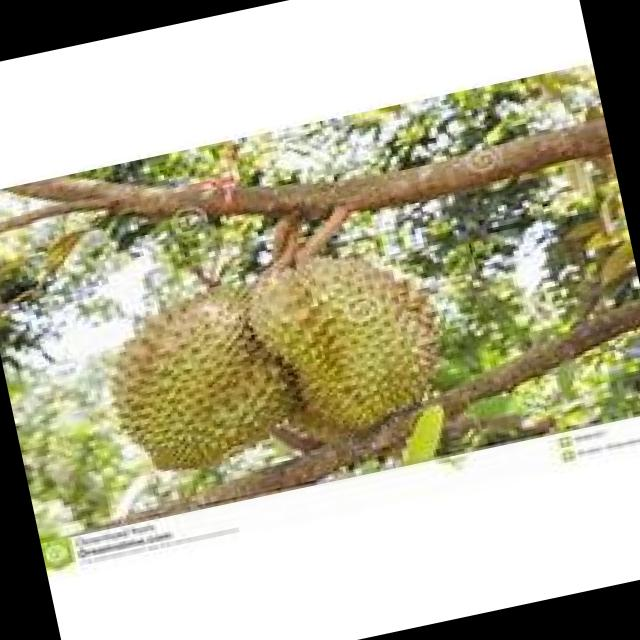fruit: (224, 208, 474, 467), (72, 253, 320, 502)
